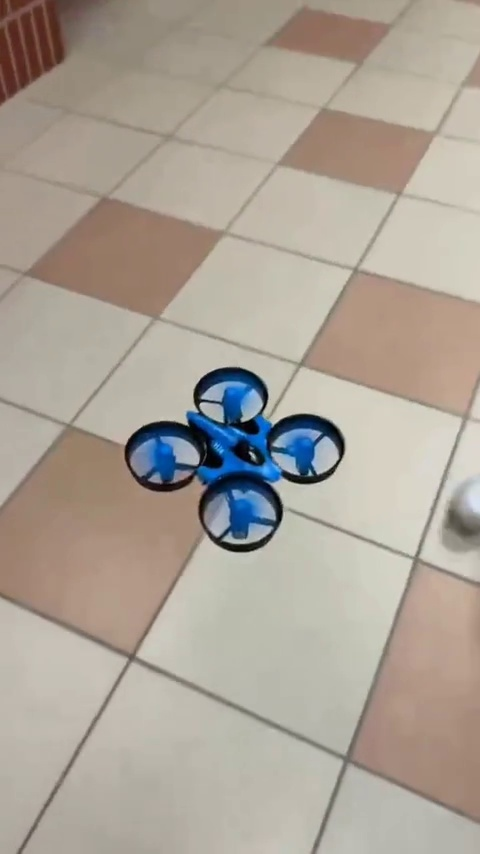drone: (122, 364, 340, 557)
